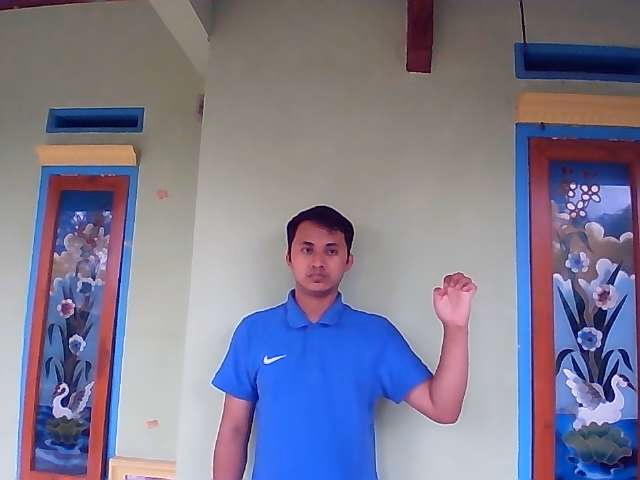E: (431, 272, 477, 325)
